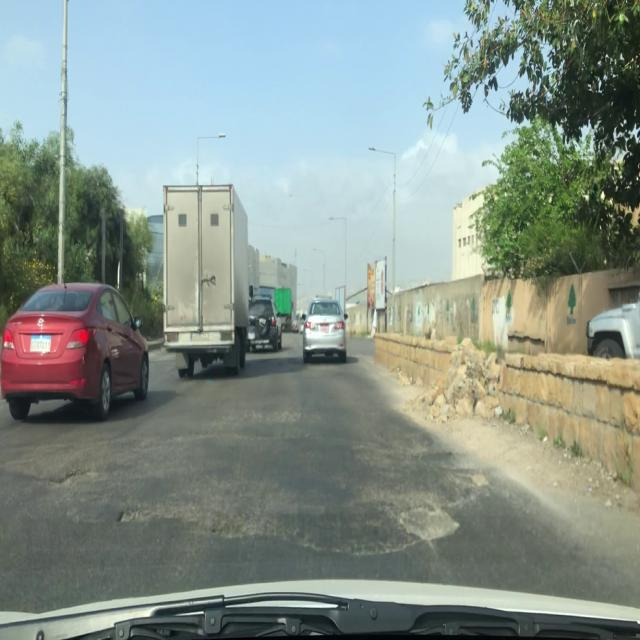Pothole: (395, 499, 464, 554), (52, 462, 110, 493), (113, 503, 171, 531), (210, 513, 249, 549), (456, 465, 492, 495)
